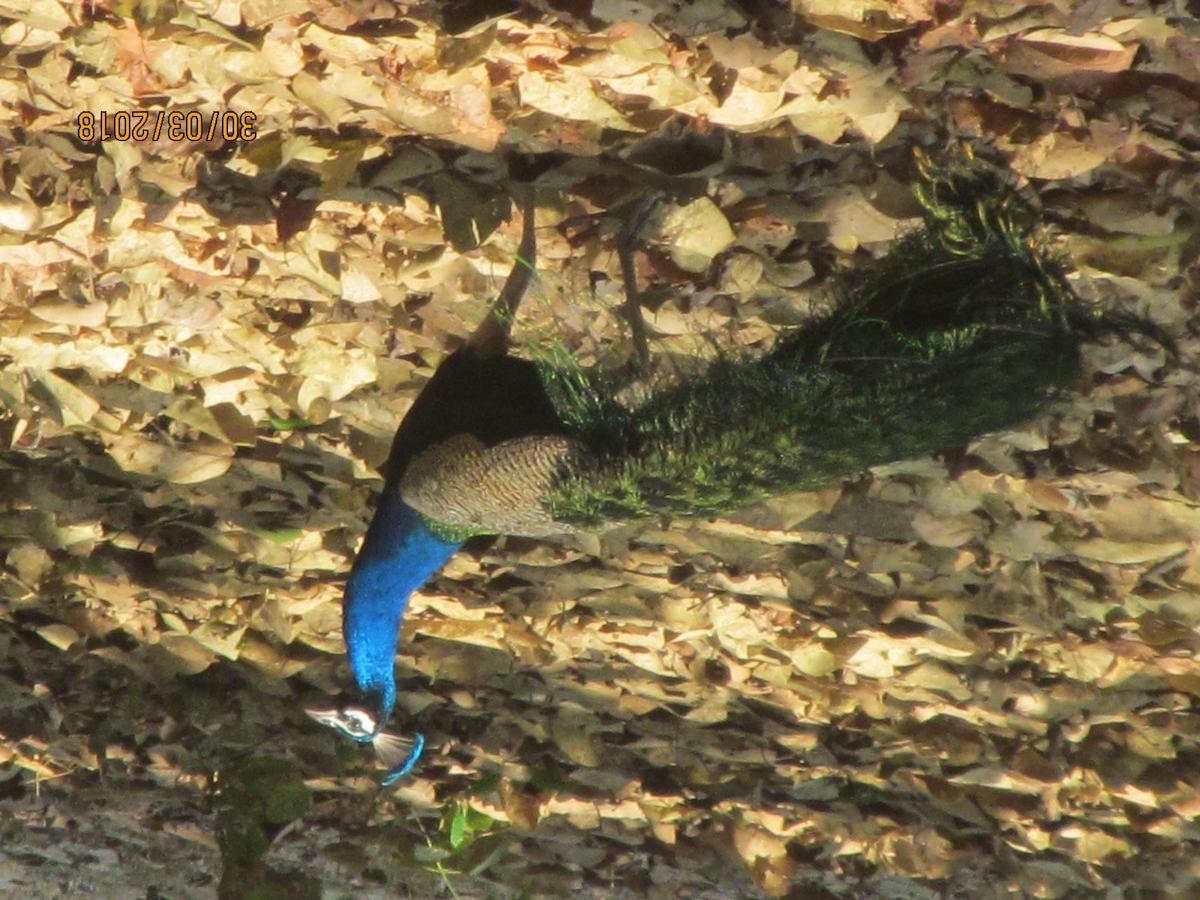peacock: (289, 228, 1098, 778)
